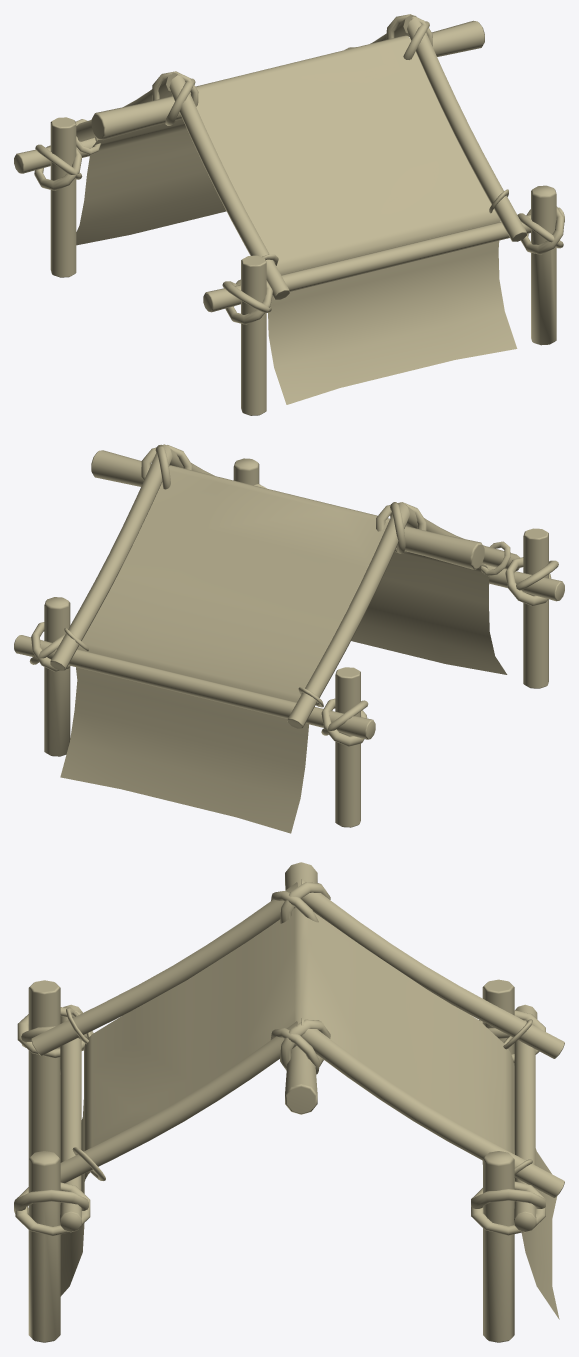
Rendered from SM_Tent_02_Unity.fbx.
3 renders of one model, top to bottom at view 1: azimuth 30°, elevation 25°; view 2: azimuth 150°, elevation 25°; view 3: azimuth 270°, elevation 25°, orthographic. The views are drawn at different scales.
Parts seen in each view (by area): view 1: SM_Tent_02_LOD0; view 2: SM_Tent_02_LOD0; view 3: SM_Tent_02_LOD0.
Part boxes in pixels (box(x1,y1,x2,y2)): SM_Tent_02_LOD0: box(14, 14, 564, 415); SM_Tent_02_LOD0: box(14, 444, 564, 833); SM_Tent_02_LOD0: box(14, 862, 564, 1342).
Size of what is drawn, in the model's own units: 333 by 211 by 346.
